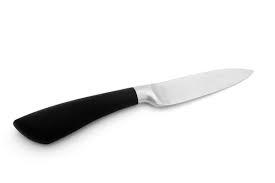Knife: (12, 67, 254, 144)
